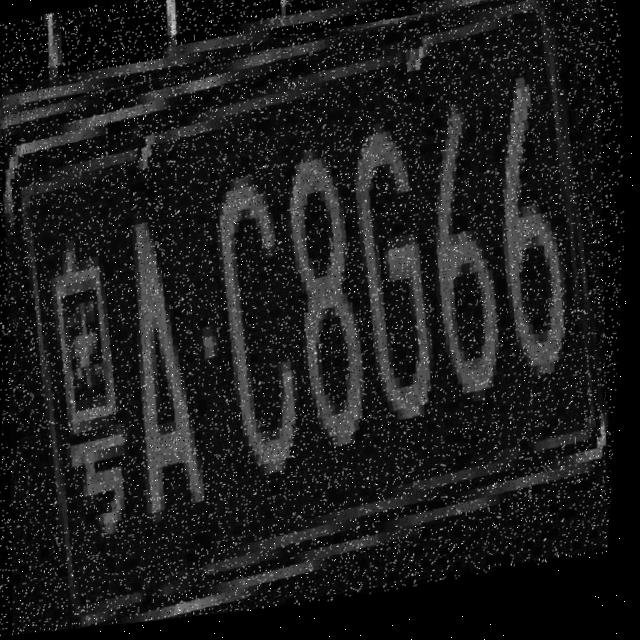LicensePlate: (0, 0, 638, 640)
